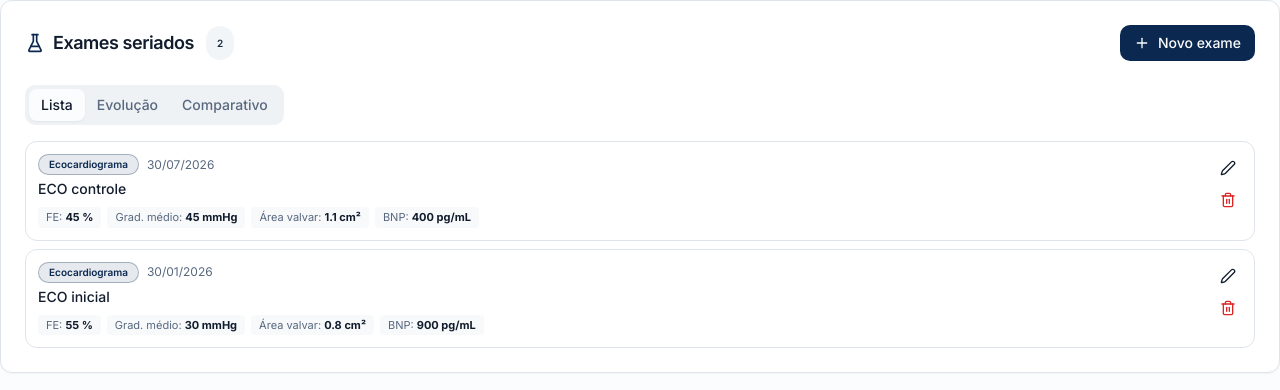
Test: CaseExams › o comparativo mede o exame atual contra o anterior
Expected: the text "ECO controle" is shown, [38, 180, 126, 197]
Press the mouse on the tab "Comparativo": (225, 105) [170, 89, 280, 121]
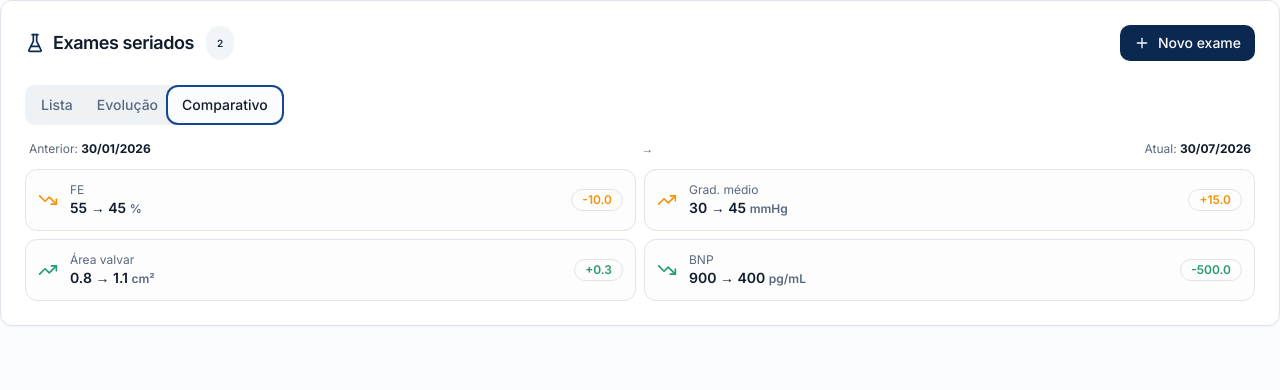
Result: the text "55 → 45 %" is shown at [70, 199, 142, 216]
Result: the text "-10.0" is shown at [571, 189, 623, 211]
